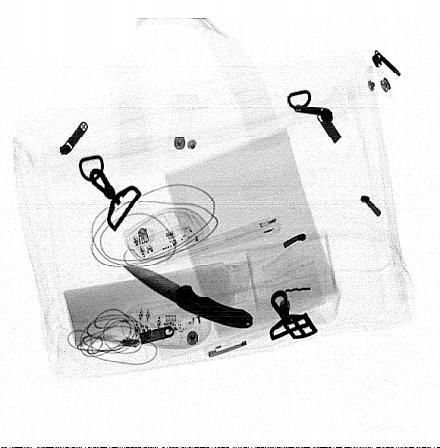Knife: (123, 264, 254, 330)
